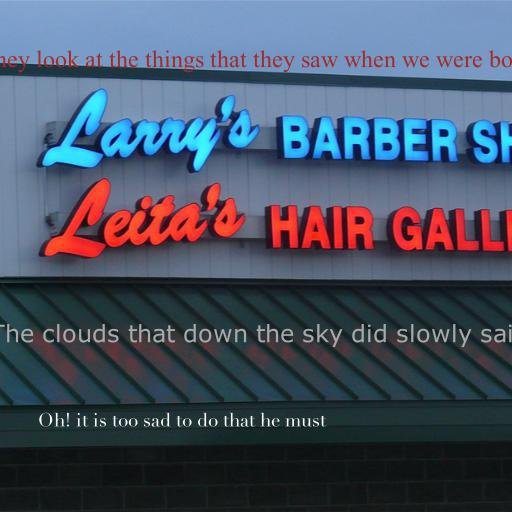Didot: (38, 412, 326, 427)
Times New Roman: (0, 50, 512, 73)
Verdana: (0, 323, 512, 348)
